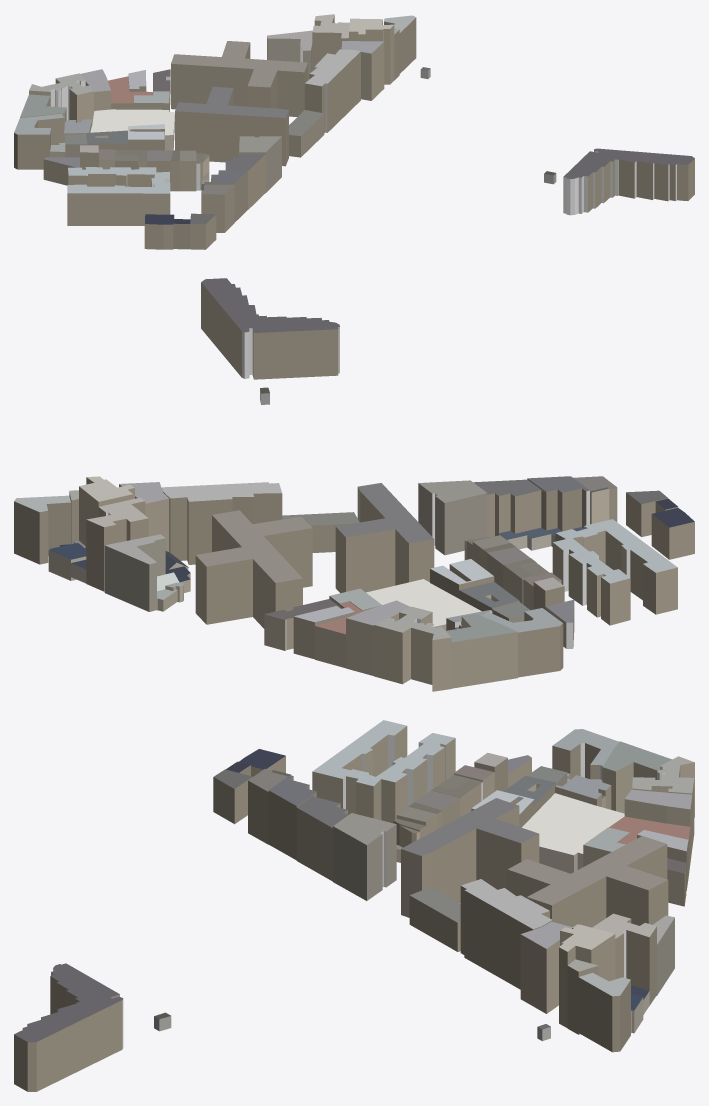
3 renders of one model, top to bottom at view 1: azimuth 30°, elevation 25°; view 2: azimuth 150°, elevation 25°; view 3: azimuth 270°, elevation 25°, orthographic. The views are drawn at different scales.
Parts seen in each view (by area): view 1: tuile; view 2: tuile; view 3: tuile.
Boxes of the visible parts, x1,y1,x2,y2 form: tuile: [14, 14, 694, 249]; tuile: [14, 278, 694, 691]; tuile: [14, 720, 694, 1091].
Bounding box in the file's own units: 297 × 32.86 × 256.
